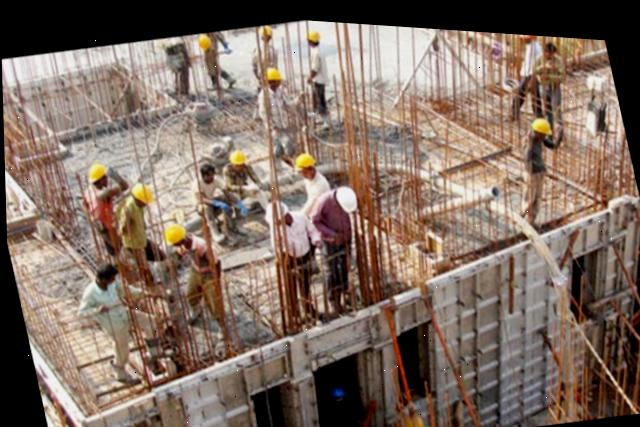helmet: (257, 189, 289, 218), (332, 181, 361, 209), (77, 157, 108, 183), (290, 141, 319, 167), (130, 176, 154, 203), (531, 105, 555, 129), (160, 218, 183, 242), (222, 141, 244, 163), (297, 23, 324, 40), (264, 58, 281, 79), (258, 20, 276, 35), (516, 27, 537, 33)
vest: (113, 192, 152, 251)
